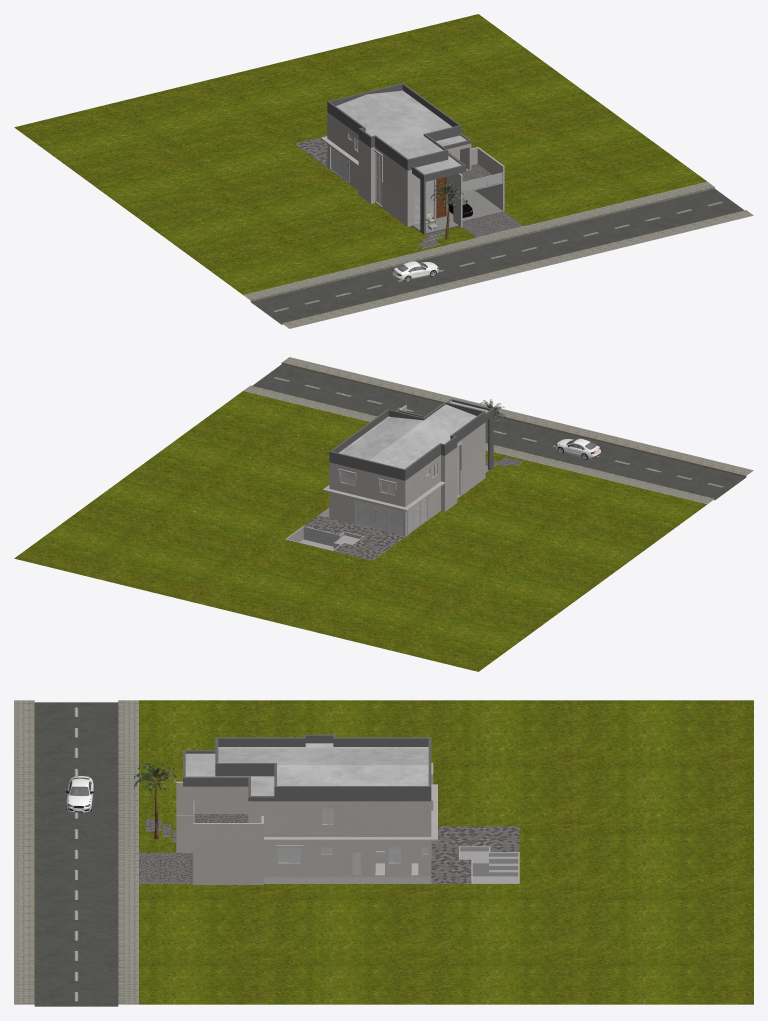
Rendered from monica_lubenau.gltf.
3 views of the same model, one above another, from view 1: azimuth 30°, elevation 25°; view 2: azimuth 150°, elevation 25°; view 3: azimuth 270°, elevation 25° (orthographic). The views are drawn at different scales.
Visible parts, largest first — view 1: outisde_ground, roof_mesh, top_floor_base, bottom_floor_walls, bottom_floor_walkable, bottom_floor_glass, car_right, outisde_tree; view 2: outisde_ground, roof_mesh, top_floor_base, bottom_floor_walls, bottom_floor_glass, car_right; view 3: outisde_ground, roof_mesh, top_floor_base, bottom_floor_walls, bottom_floor_walkable, car_right, outisde_tree, bottom_floor_glass.
Part boxes in pixels (x1,y1,x2,y2): outisde_ground: (14,14,753,328); roof_mesh: (327,83,471,178); top_floor_base: (320,112,504,206); bottom_floor_walls: (327,144,504,234); bottom_floor_walkable: (330,169,502,233); bottom_floor_glass: (331,147,433,222); car_right: (392,261,438,281); outisde_tree: (430,181,463,239); outisde_ground: (14,357,753,671); roof_mesh: (329,399,493,480); top_floor_base: (322,405,493,511); bottom_floor_walls: (329,440,493,536); bottom_floor_glass: (356,468,459,534); car_right: (556,438,600,459); outisde_ground: (14,700,753,1006); roof_mesh: (183,734,431,801); top_floor_base: (176,762,437,846); bottom_floor_walls: (176,815,431,884); bottom_floor_walkable: (264,852,431,883); car_right: (66,776,93,812); outisde_tree: (133,762,176,839); bottom_floor_glass: (278,847,427,862).
Size of the model in its own units: 551 by 89.5 by 566.
Materials: 40 (21 with a texture image).
